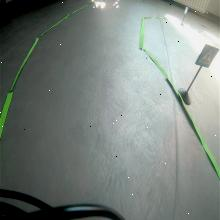crosswalk: (194, 43, 219, 68)
